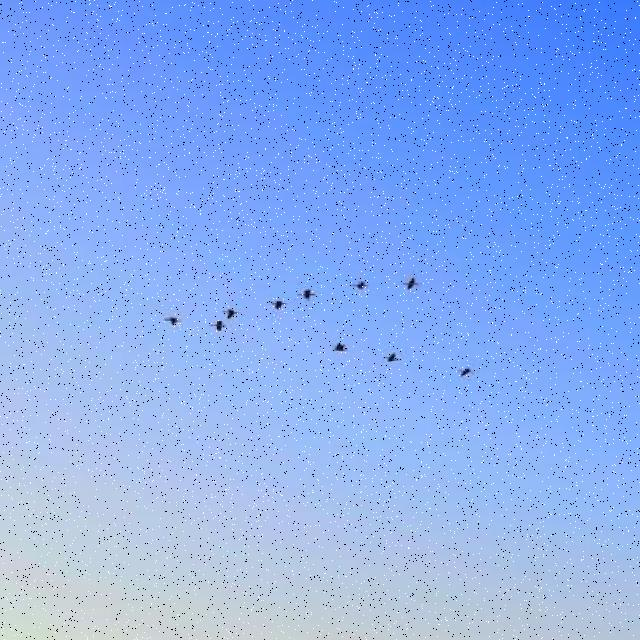bird: (266, 298, 292, 312), (399, 277, 424, 291), (294, 289, 320, 300), (328, 342, 354, 353), (378, 351, 400, 364), (222, 306, 242, 320), (159, 314, 184, 324), (208, 318, 227, 331), (350, 282, 372, 290), (454, 368, 476, 376)
